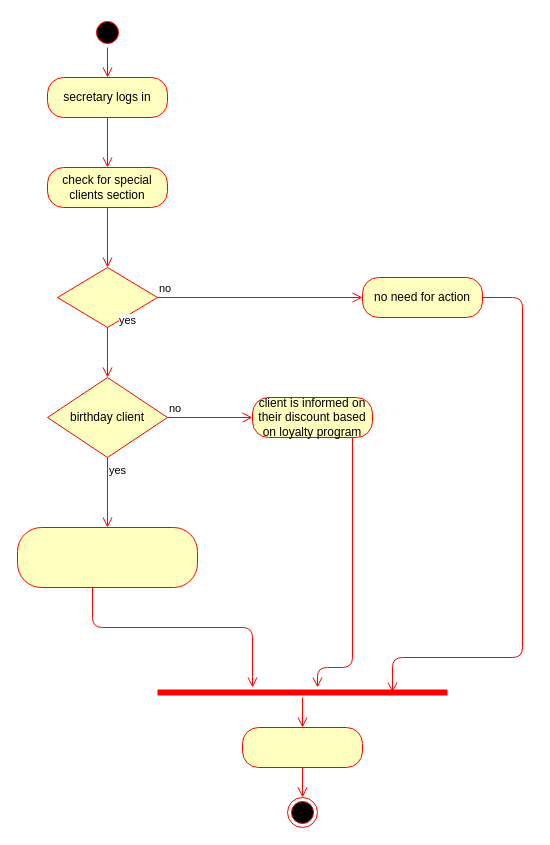
This 550x845 diagram has some shape labels left out. Here are the shapes that lost their labels. From the top down, the centre of each, then its label:
the point at 107,297: special clients
the point at 107,557: They are sent a happy birthday message and discount for the day
the point at 302,747: back to dashboard
